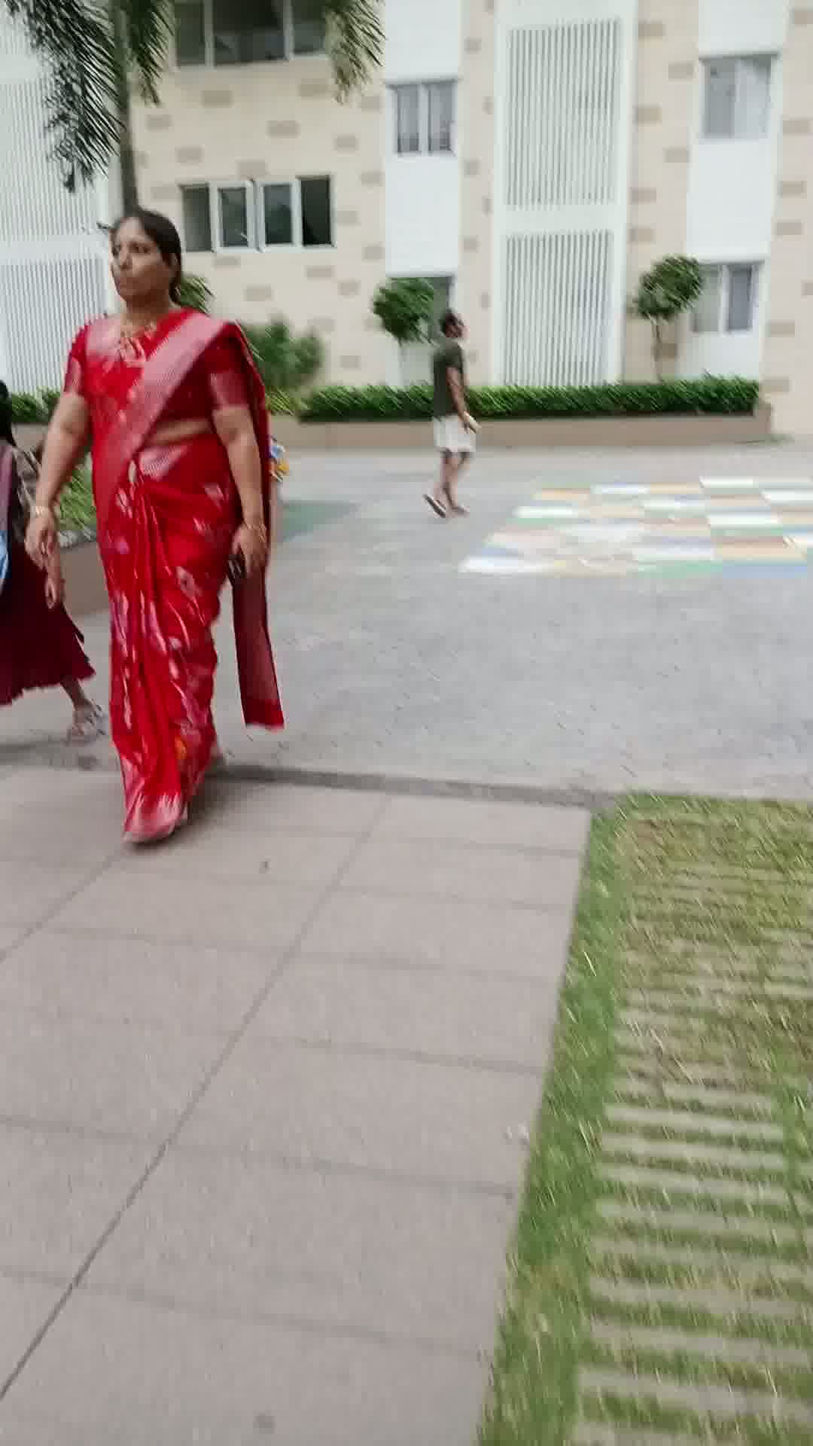person: (57, 205, 267, 888), (0, 362, 102, 763), (410, 296, 498, 527)
tree: (0, 3, 378, 208), (615, 236, 717, 410), (361, 248, 444, 393)
